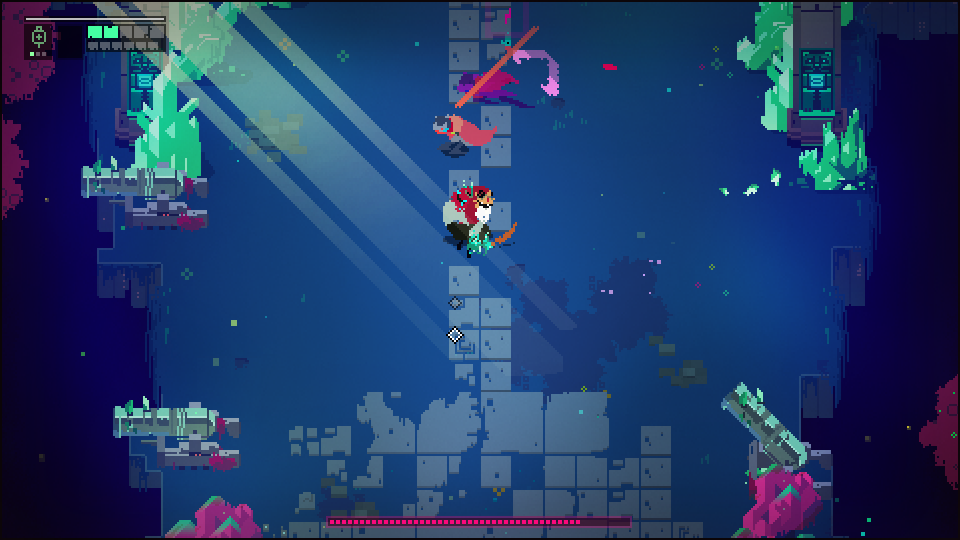hanged_man: (440, 176, 524, 261)
player: (423, 109, 498, 149)
